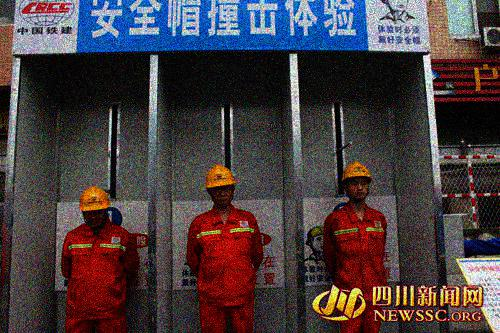helmet: (78, 185, 113, 229), (204, 163, 238, 205), (338, 160, 374, 199)
